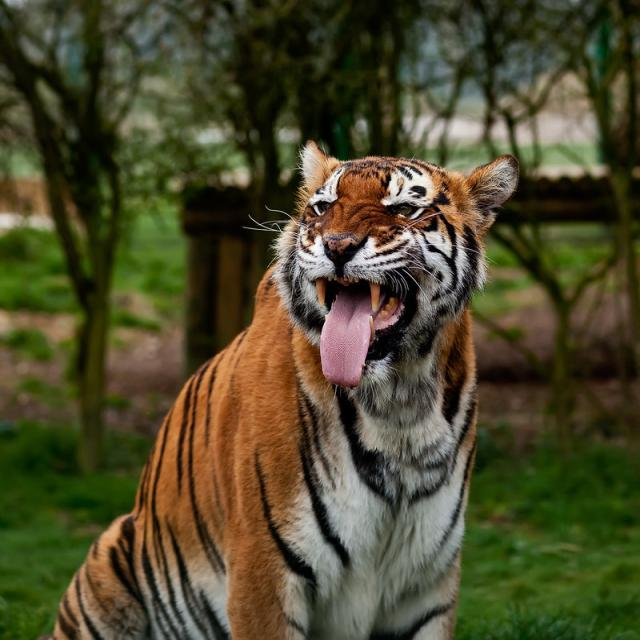Tiger: (51, 133, 518, 639)
